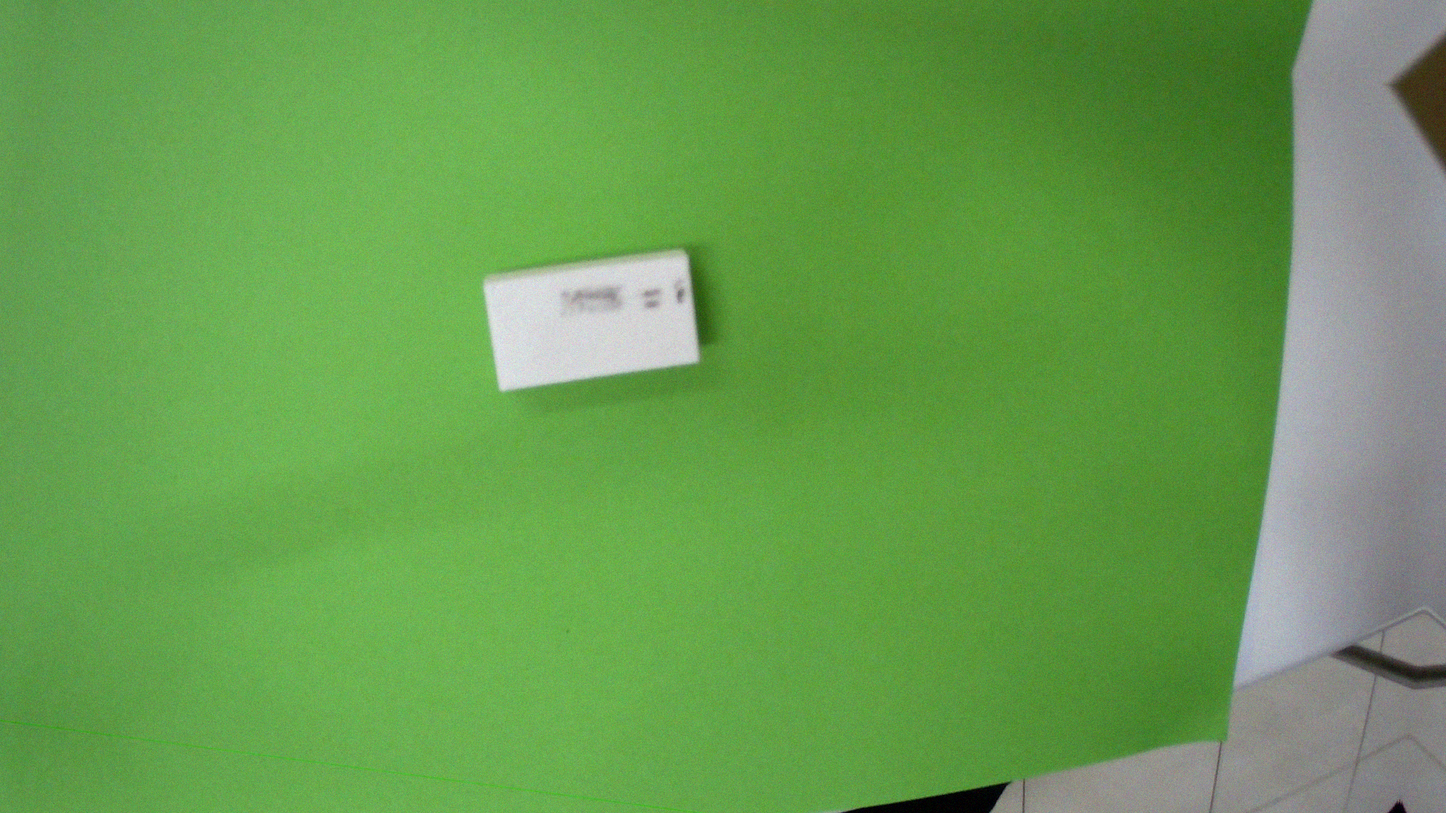gom: (468, 220, 727, 418)
